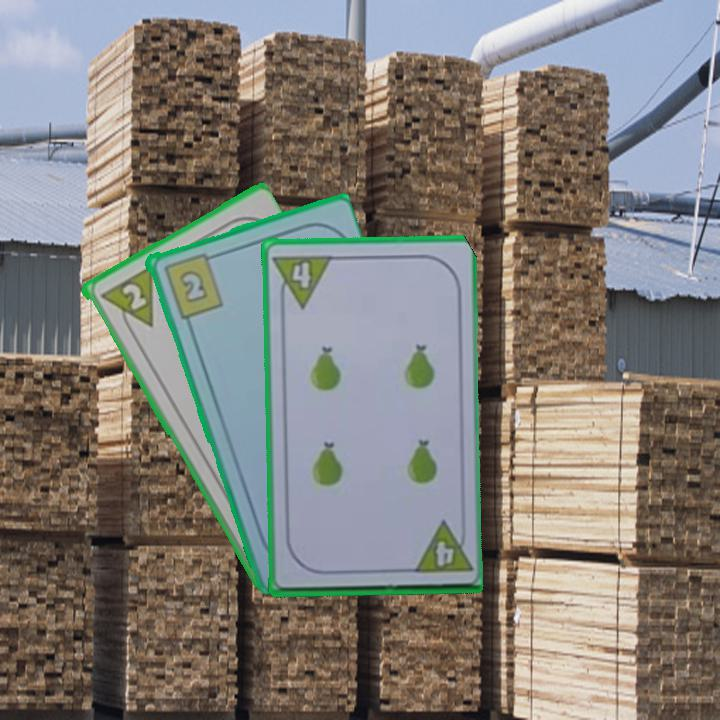2b: (159, 249, 225, 321)
2p: (96, 263, 157, 340)
4p: (270, 251, 335, 311), (408, 518, 473, 576)
